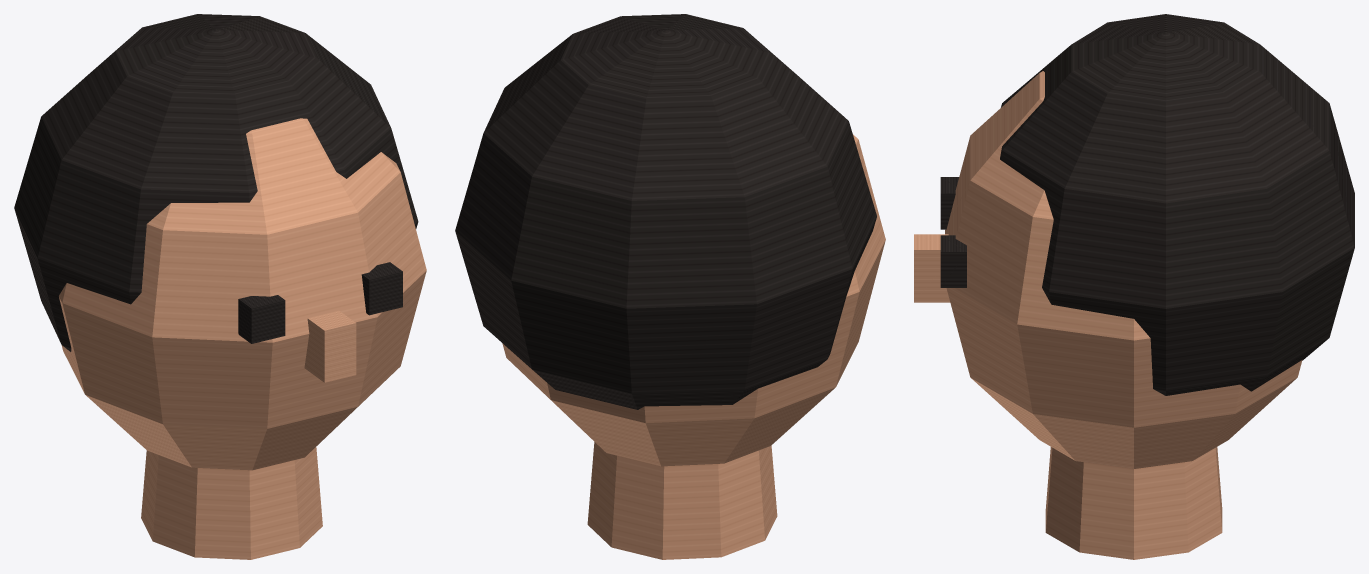
The model's file is arrodillado_cabeza.obj.
3 renders of one model, left to right at view 1: azimuth 30°, elevation 25°; view 2: azimuth 150°, elevation 25°; view 3: azimuth 270°, elevation 25°, orthographic. The views are drawn at different scales.
Parts seen in each view (by area): view 1: arrodillado_cabeza; view 2: arrodillado_cabeza; view 3: arrodillado_cabeza.
Part boxes in pixels (x1=…): arrodillado_cabeza: x1=14, y1=14, x2=426, y2=559; arrodillado_cabeza: x1=455, y1=14, x2=885, y2=559; arrodillado_cabeza: x1=914, y1=14, x2=1354, y2=559.
Bounding box in the file's own units: 0.158 × 0.203 × 0.1663.
1 material, 1 textured.
